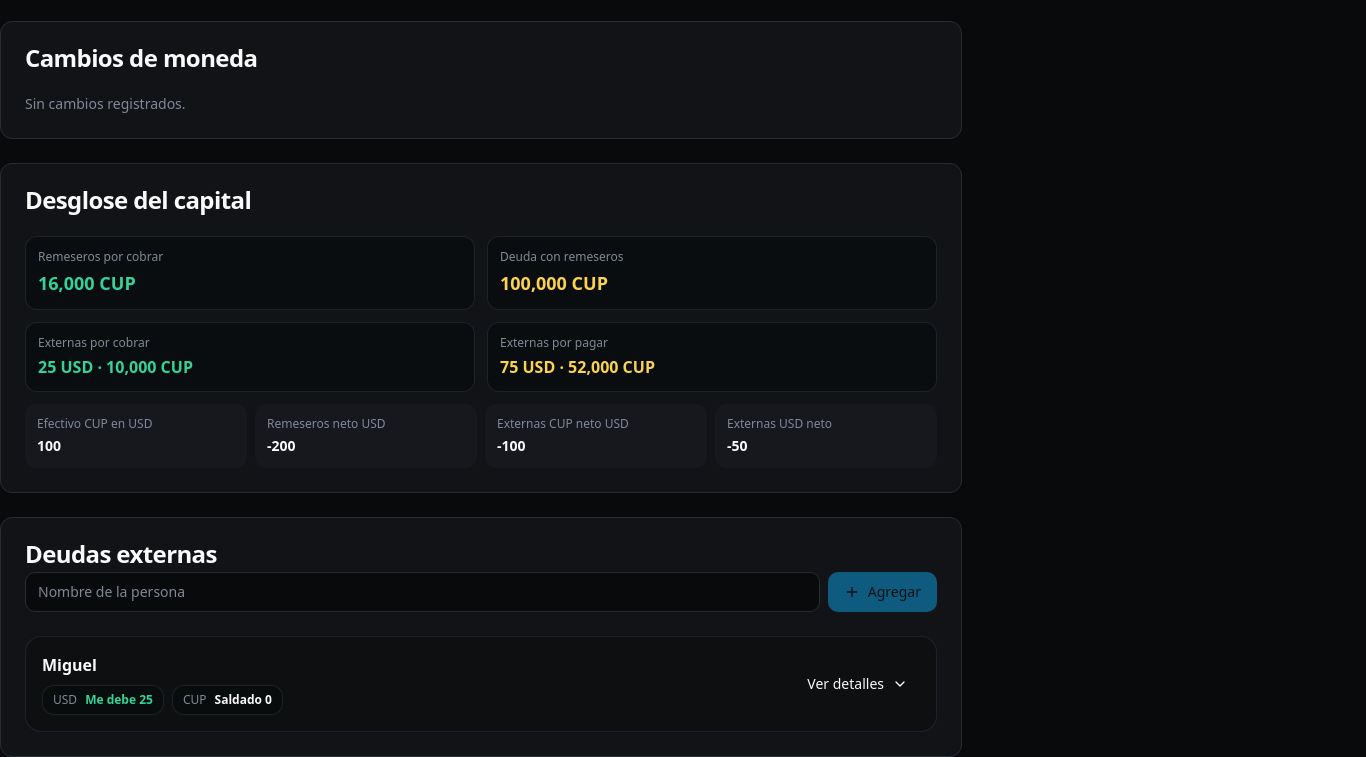
Scenario: FinancesView › confirms and permanently deletes an external debt
This screenshot has width=1366, height=757.
Later steps or results of the test are not shown.
(page scrolled)
Click the button with aria-label "Ver detalles de Miguel": (858, 684) top-left (795, 666), bottom-right (920, 702)
(page scrolled)
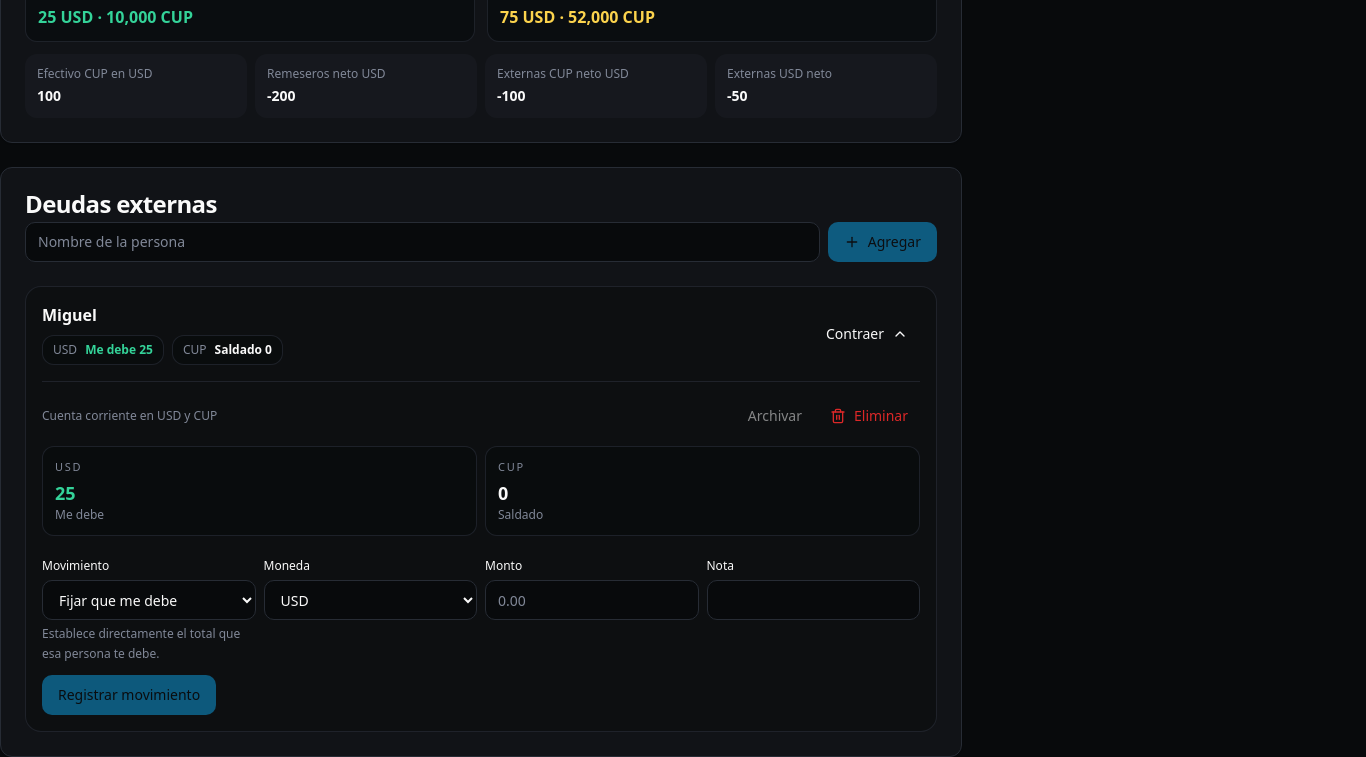
Click the button "Eliminar": (869, 416) top-left (818, 398), bottom-right (920, 434)
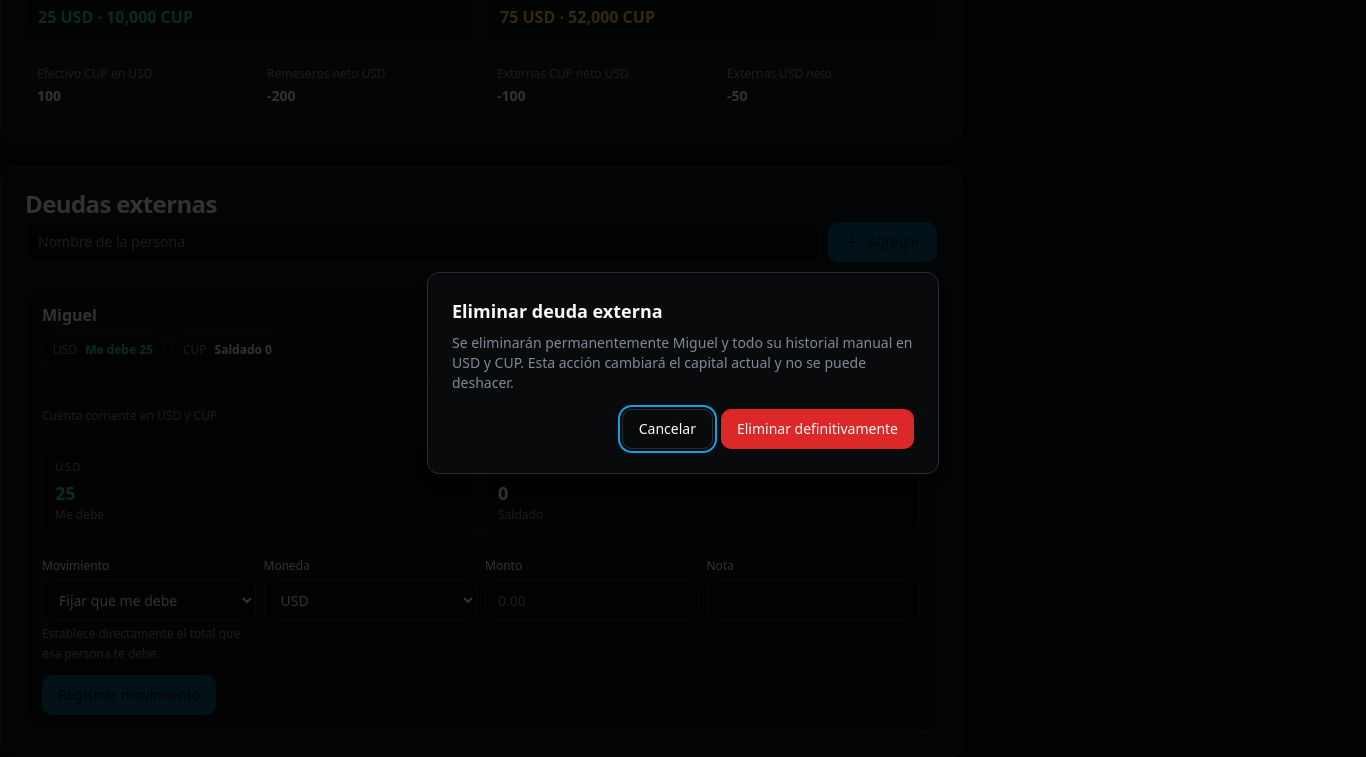
Check: the heading "Eliminar deuda externa" is shown, box top-left (452, 299), bottom-right (663, 323)
Check: the text "todo su historial manual" is shown, box top-left (452, 333), bottom-right (912, 392)
